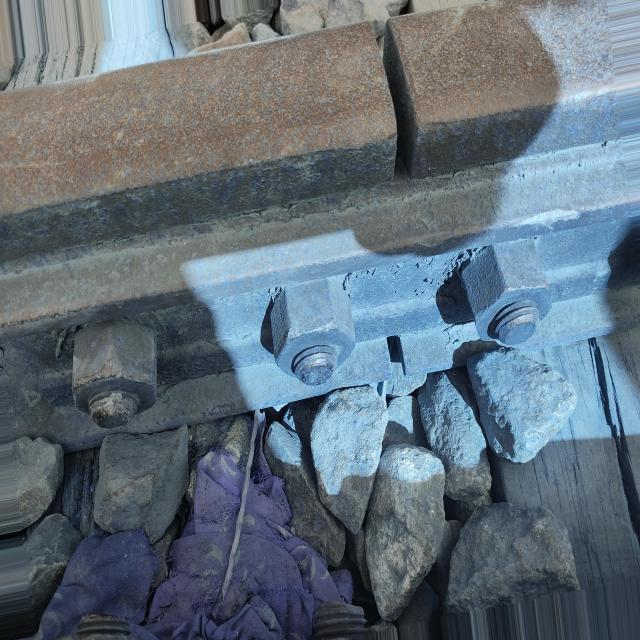crack: (362, 3, 438, 196)
